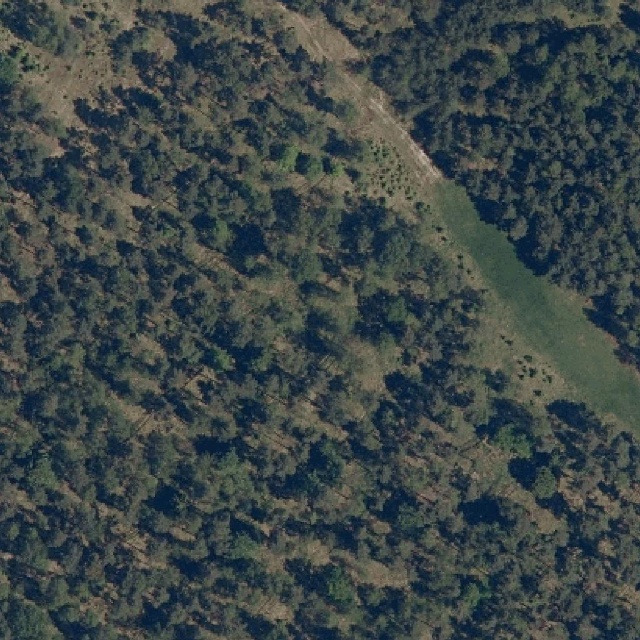vegetation: (0, 0, 640, 640)
